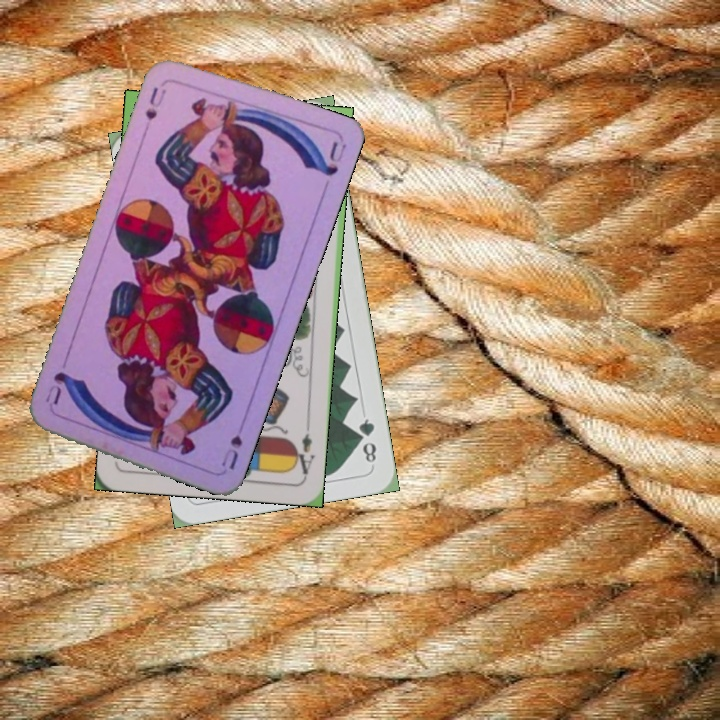EA: (289, 429, 318, 479)
G8: (354, 414, 379, 465)
SU: (141, 83, 169, 135), (217, 431, 245, 473)
